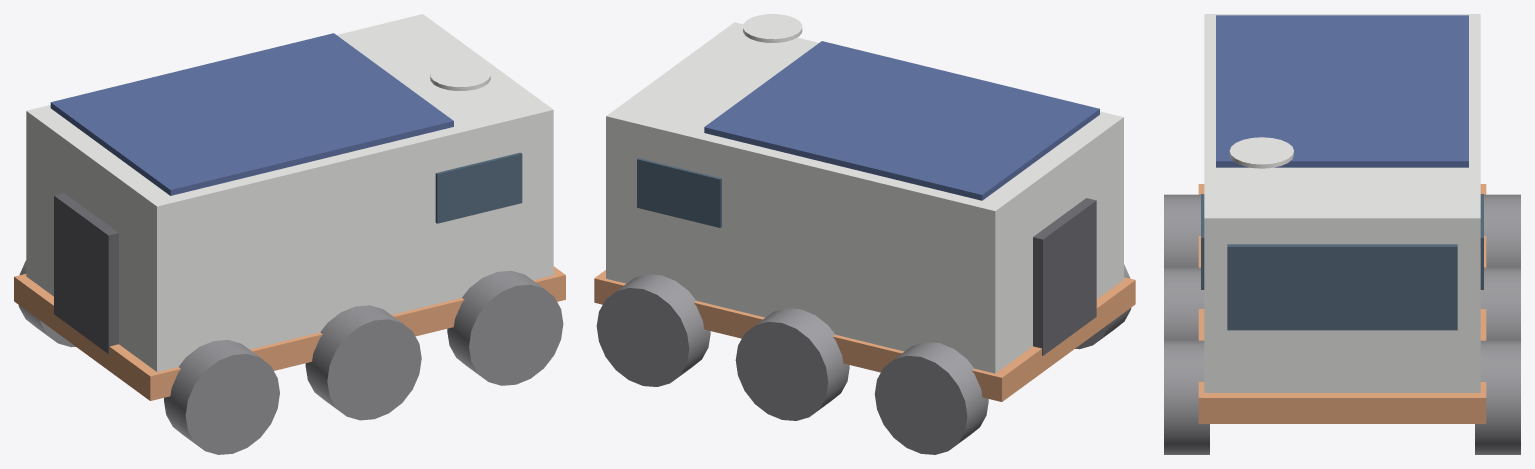
Rendered from buggy.glb.
3 views of the same model, side by side, from view 1: azimuth 30°, elevation 25°; view 2: azimuth 150°, elevation 25°; view 3: azimuth 270°, elevation 25° (orthographic). The views are drawn at different scales.
Visible parts, largest first — view 1: rover; view 2: rover; view 3: rover.
Part boxes in pixels (x1,y1,x2,y2): rover: [14, 14, 565, 454]; rover: [594, 14, 1135, 454]; rover: [1164, 14, 1520, 454].
Size of the model in its own units: 4.41 by 2.82 by 3.1.
